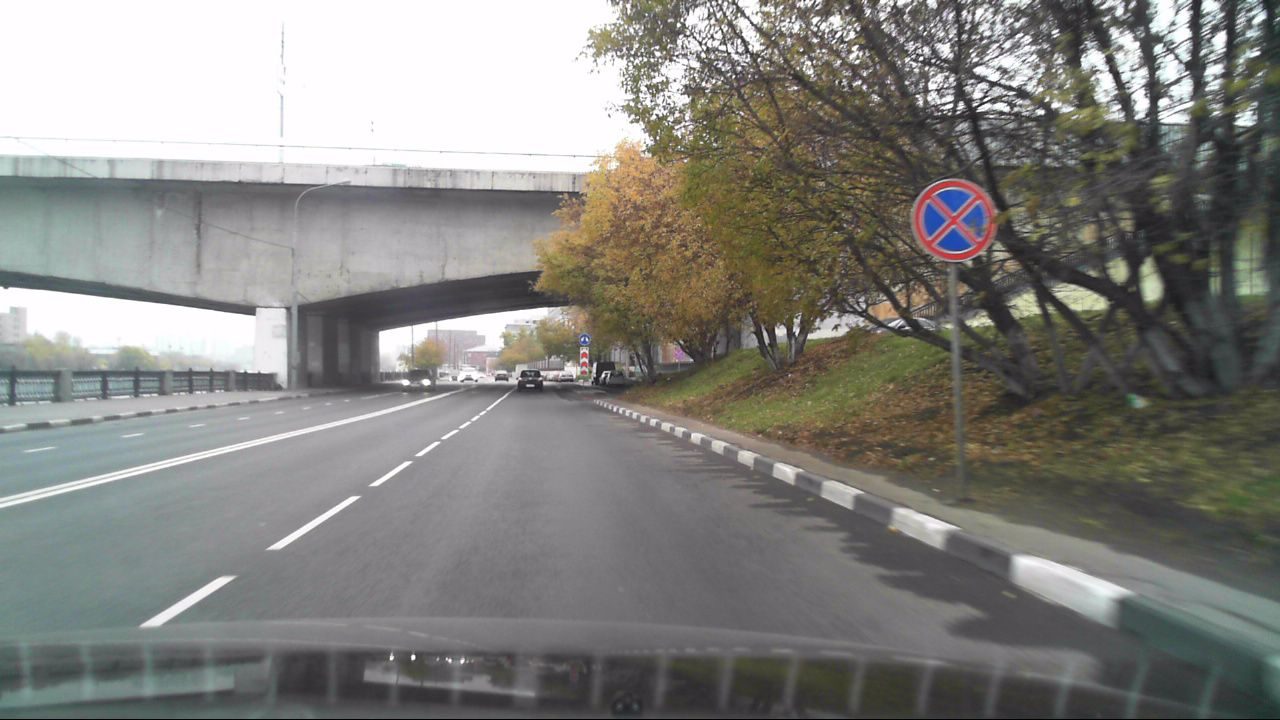No Parking: (911, 175, 995, 263)
